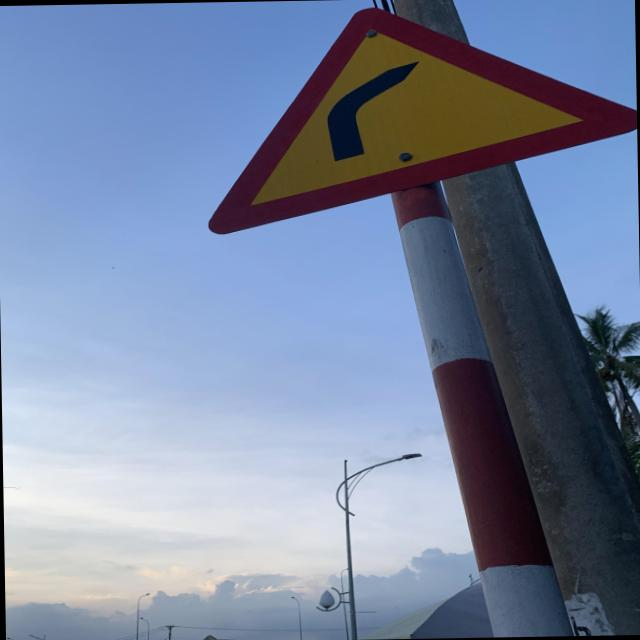Duong_Nguoi_Di_Bo_Cat_Ngang: (204, 0, 638, 243)
